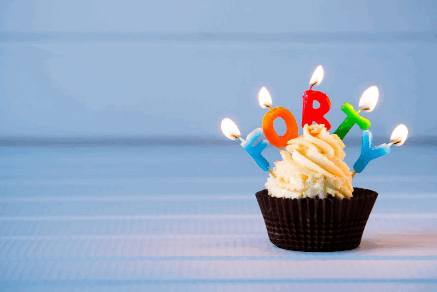Fire: (247, 79, 282, 116), (353, 79, 387, 115), (390, 119, 415, 158), (302, 61, 326, 97), (218, 113, 242, 142)
